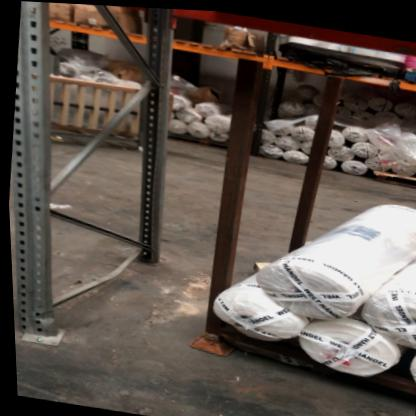vertical_damage: (11, 291, 73, 354)
